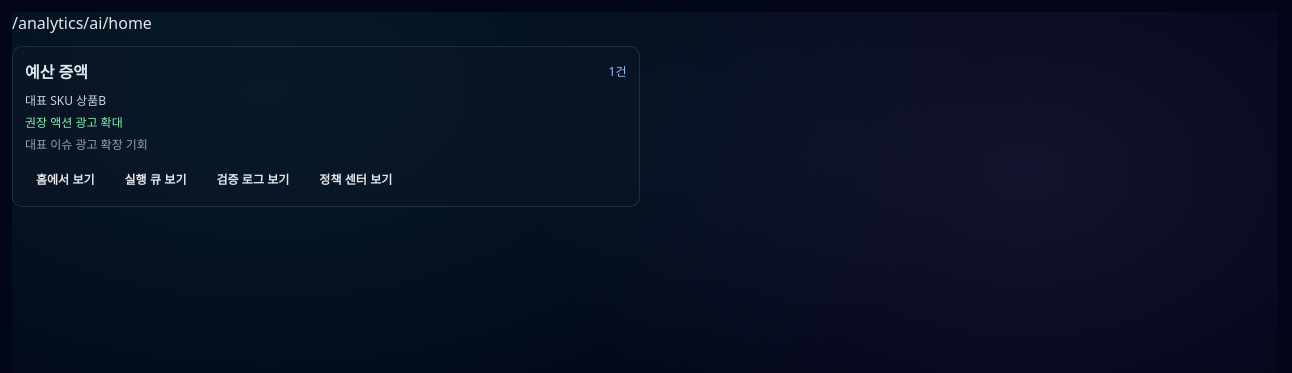
Test: AiOpsHomePresentation › 버킷 허브는 동일 버킷 컨텍스트로 이동한다
The image size is (1292, 373).
Check: the text "예산 증액" is shown, box [25, 59, 88, 83]
Check: the text "대표 SKU 상품B" is shown, box [25, 92, 106, 109]
Click the button with aria-label "home-bucket-actions-BUDGET_INCREASE": [155, 178] box [114, 163, 197, 194]
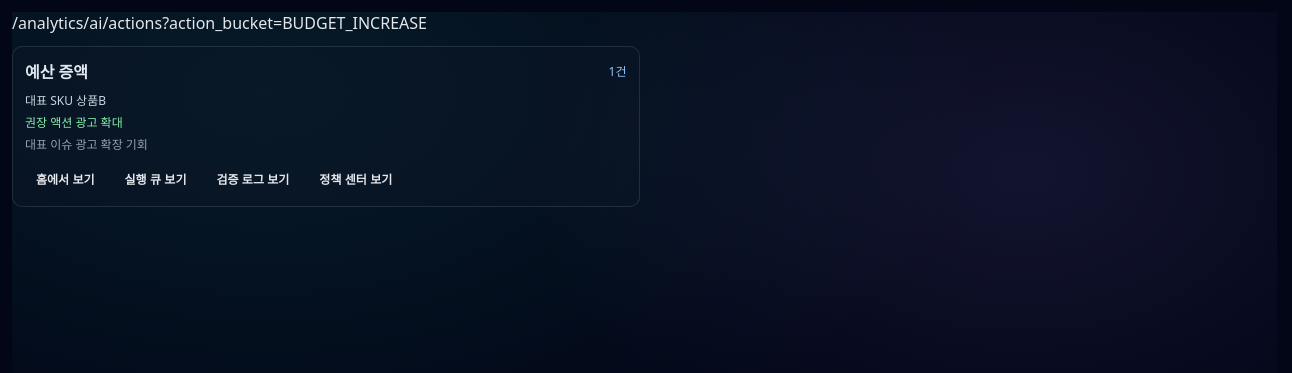
Check: the text with test id "current-location" reads "/analytics/ai/actions?action_bucket=BUDGET_INCREASE", box [12, 12, 427, 34]
